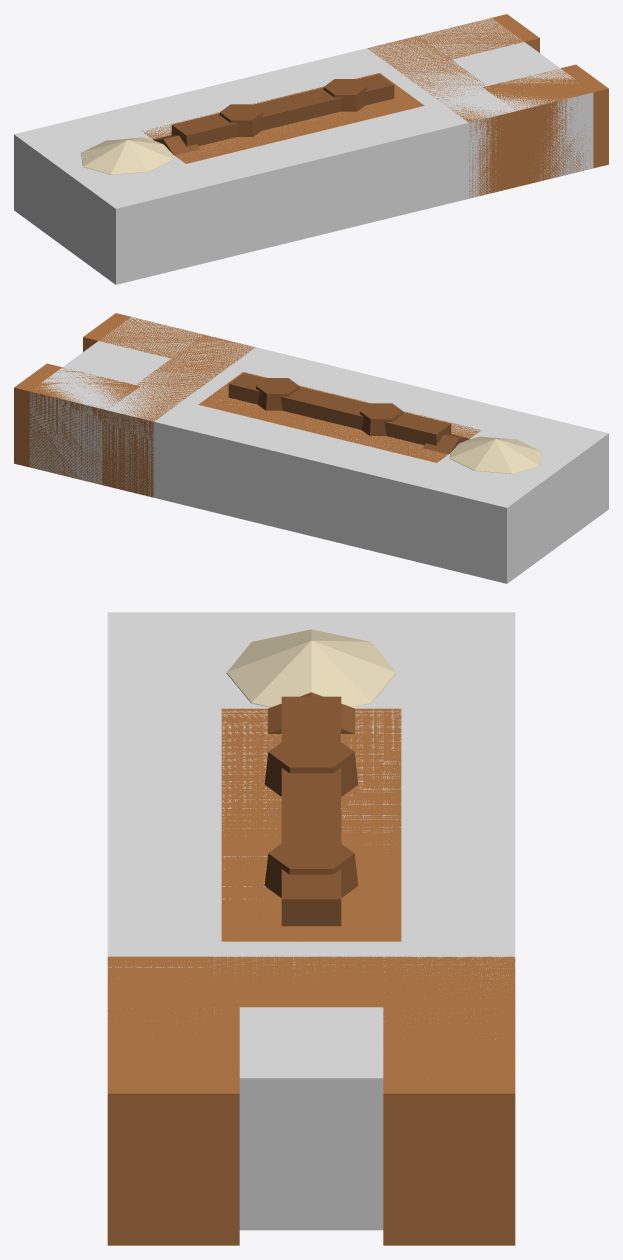
File: camp_toy_wrench.glb
3 views of the same model, one above another, from view 1: azimuth 30°, elevation 25°; view 2: azimuth 150°, elevation 25°; view 3: azimuth 270°, elevation 25° (orthographic). The views are drawn at different scales.
Parts seen in each view (by area): view 1: camp_toy_wrench-col-col, Body; view 2: camp_toy_wrench-col-col, Body; view 3: Body, camp_toy_wrench-col-col.
Part boxes in pixels (x1,y1,x2,y2): camp_toy_wrench-col-col: [14, 18, 593, 284]; Body: [81, 14, 608, 198]; camp_toy_wrench-col-col: [29, 317, 608, 583]; Body: [14, 313, 541, 497]; Body: [107, 629, 515, 1245]; camp_toy_wrench-col-col: [107, 612, 515, 1230].
Size of the model in its own units: 0.95 by 0.2 by 0.34.
